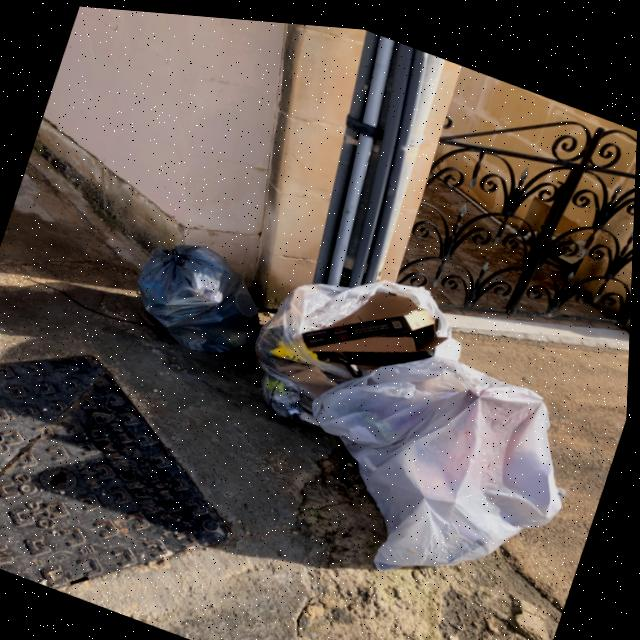Mixed Waste -Black Bag-: (124, 227, 279, 376)
Organic Waste -White Bag-: (290, 310, 599, 606), (248, 235, 473, 467)
